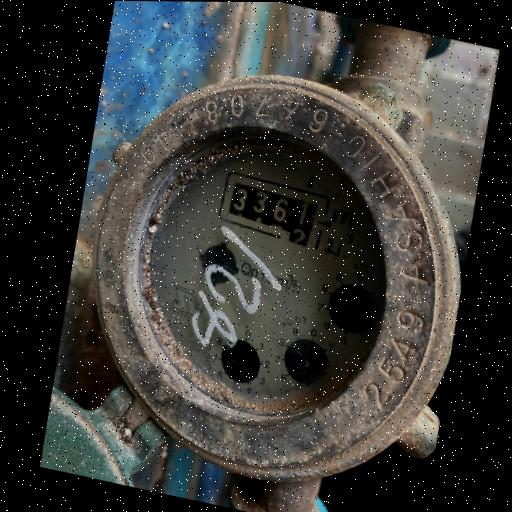1: (284, 198, 319, 247)
3: (244, 186, 275, 224), (226, 182, 256, 219)
6: (263, 192, 299, 232)
border_water_meter_number: (211, 165, 335, 253)
